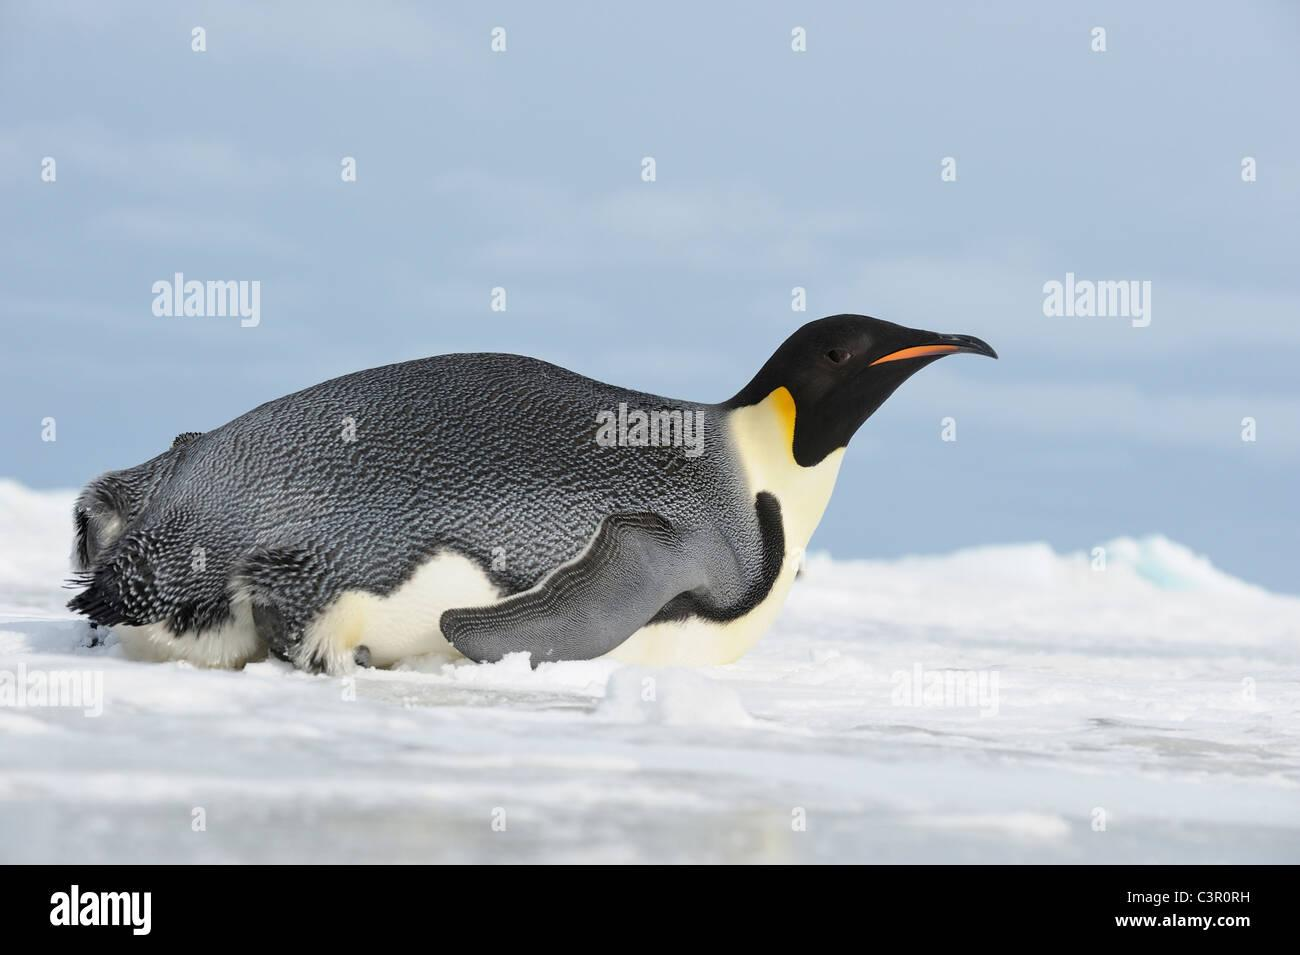emporer: (42, 254, 1004, 730)
